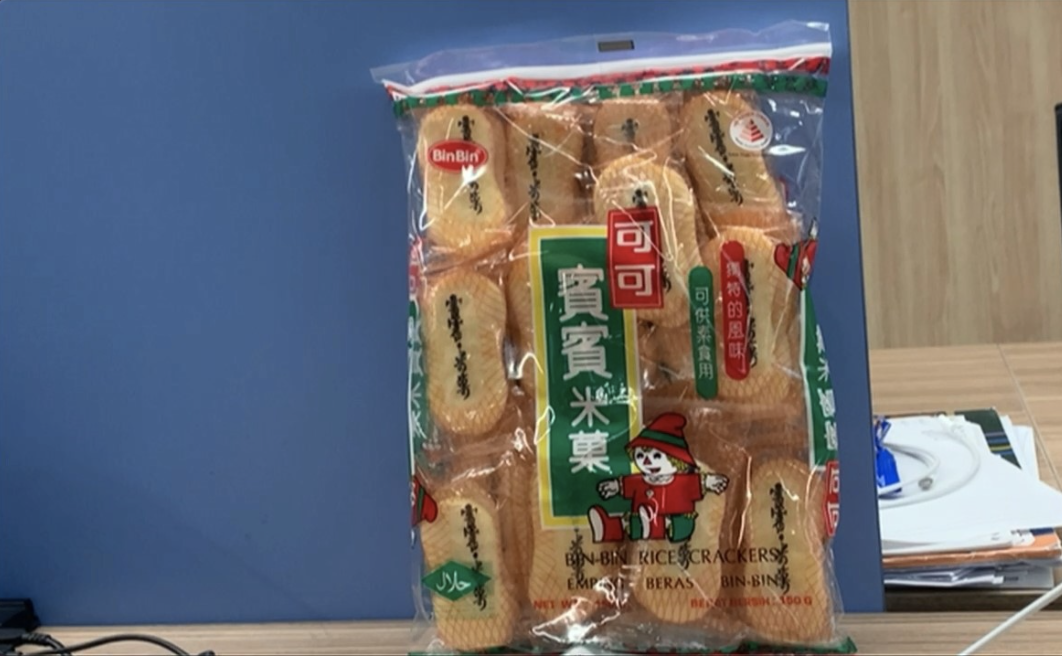crackers_150g: (420, 87, 828, 627)
